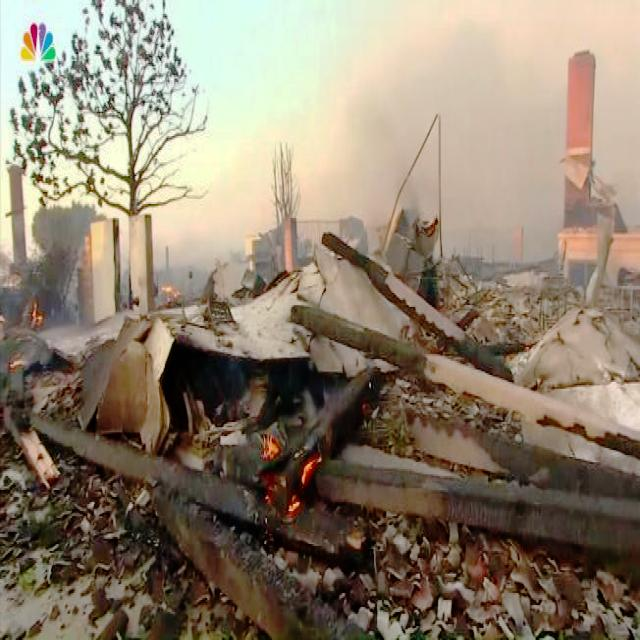api: (300, 447, 333, 491), (253, 421, 284, 466), (161, 277, 184, 311), (287, 487, 303, 522), (33, 299, 51, 329)
asap: (344, 94, 431, 261)
